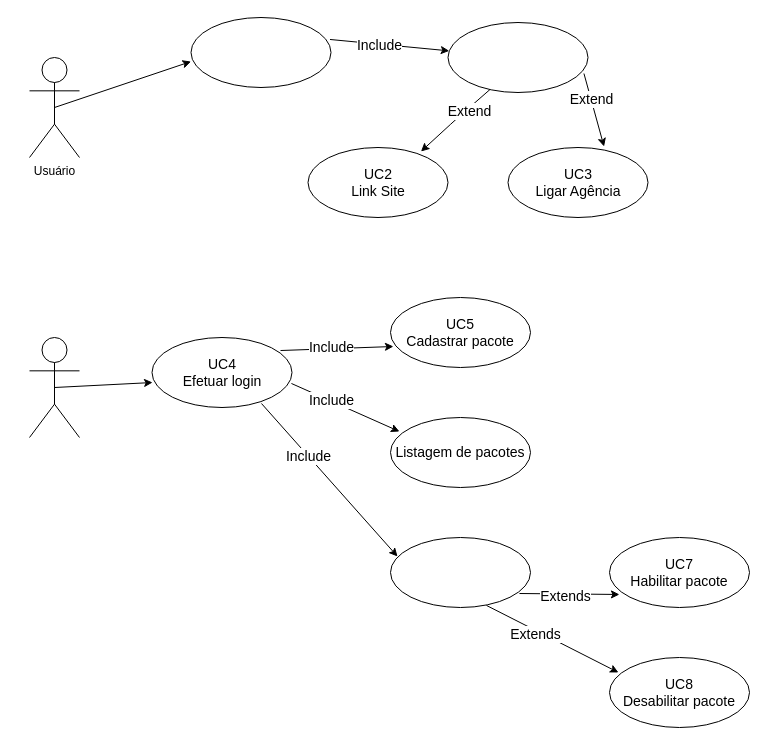
Image size: 767x745. Some labels were removed from this diagram. Here are the shapes that lost their labels. From the top down, the centre of each, then its label:
At [260,52]: "UC1 Selecionar pacote".
At [517,57]: "Descrição pacote".
At [54,387]: "Administrador".
At [460,572]: "UC6 Editar pacote".
